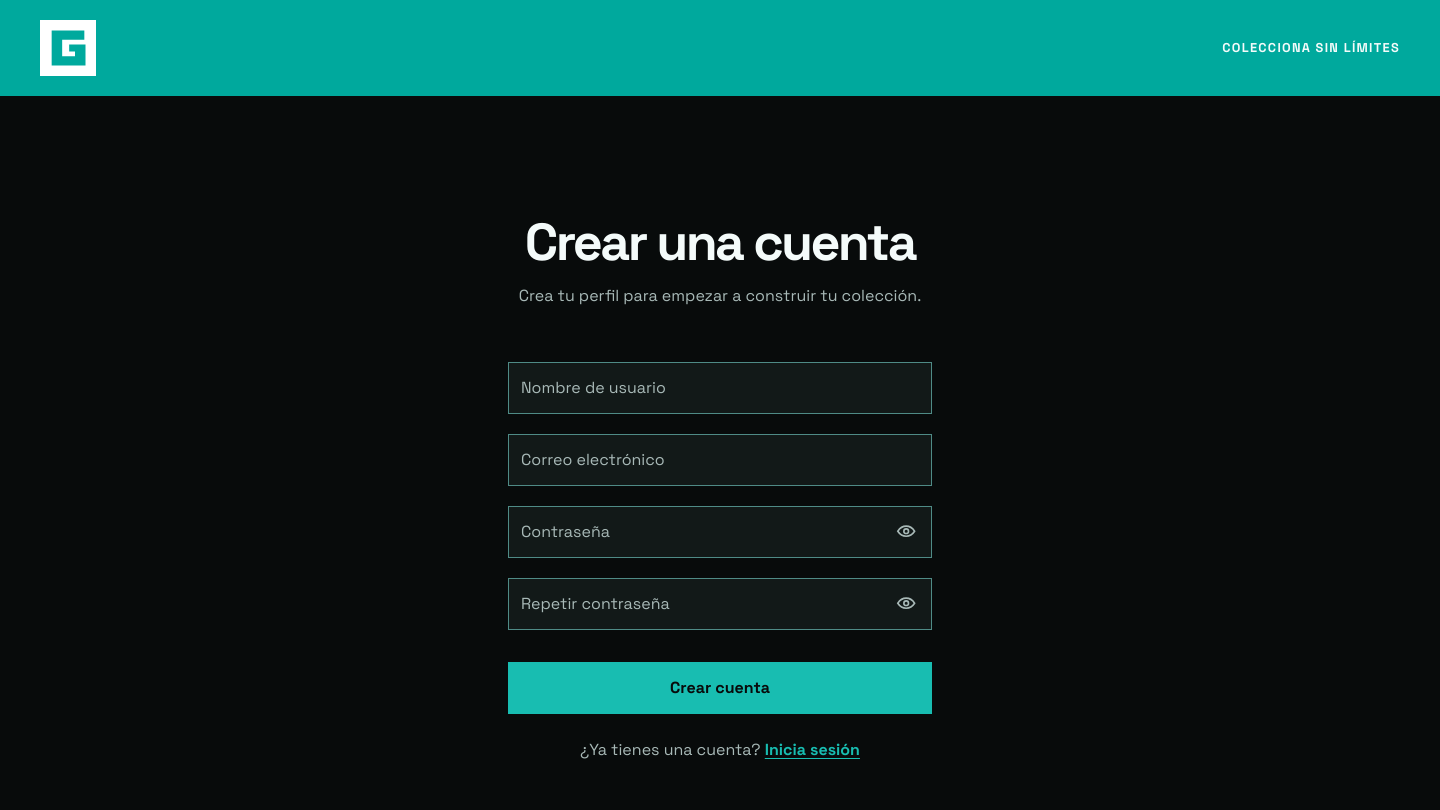
autenticación › crea una cuenta e inicia la sesión automáticamente
Expected: the heading "Crear una cuenta" is shown, [508,216,932,268]
Type "Ada" into the field labelled "Nombre de usuario" at (720, 388), box [508,362,932,414]
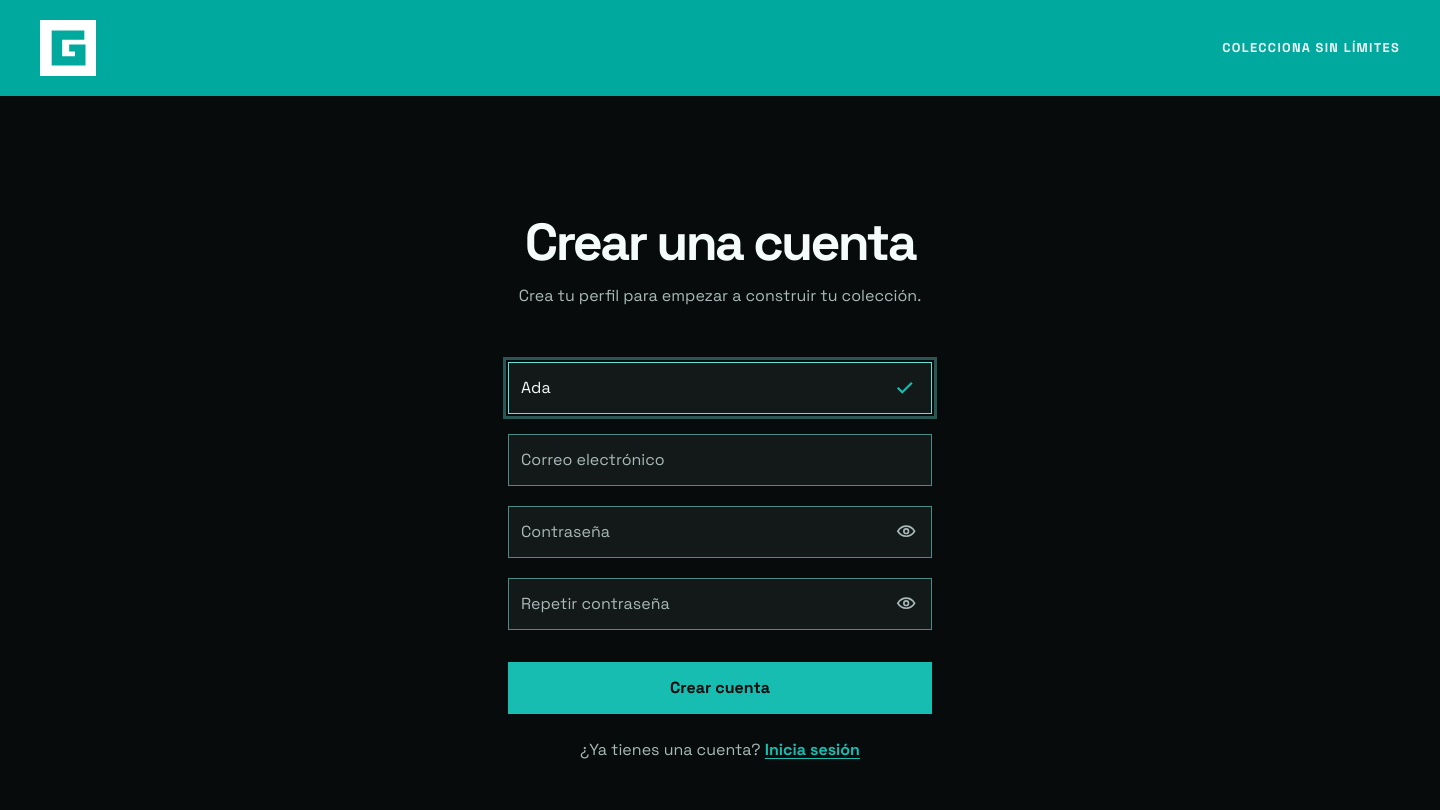
Type "ada@example.com" into the field labelled "Correo electrónico" at (720, 460), box [508,434,932,486]
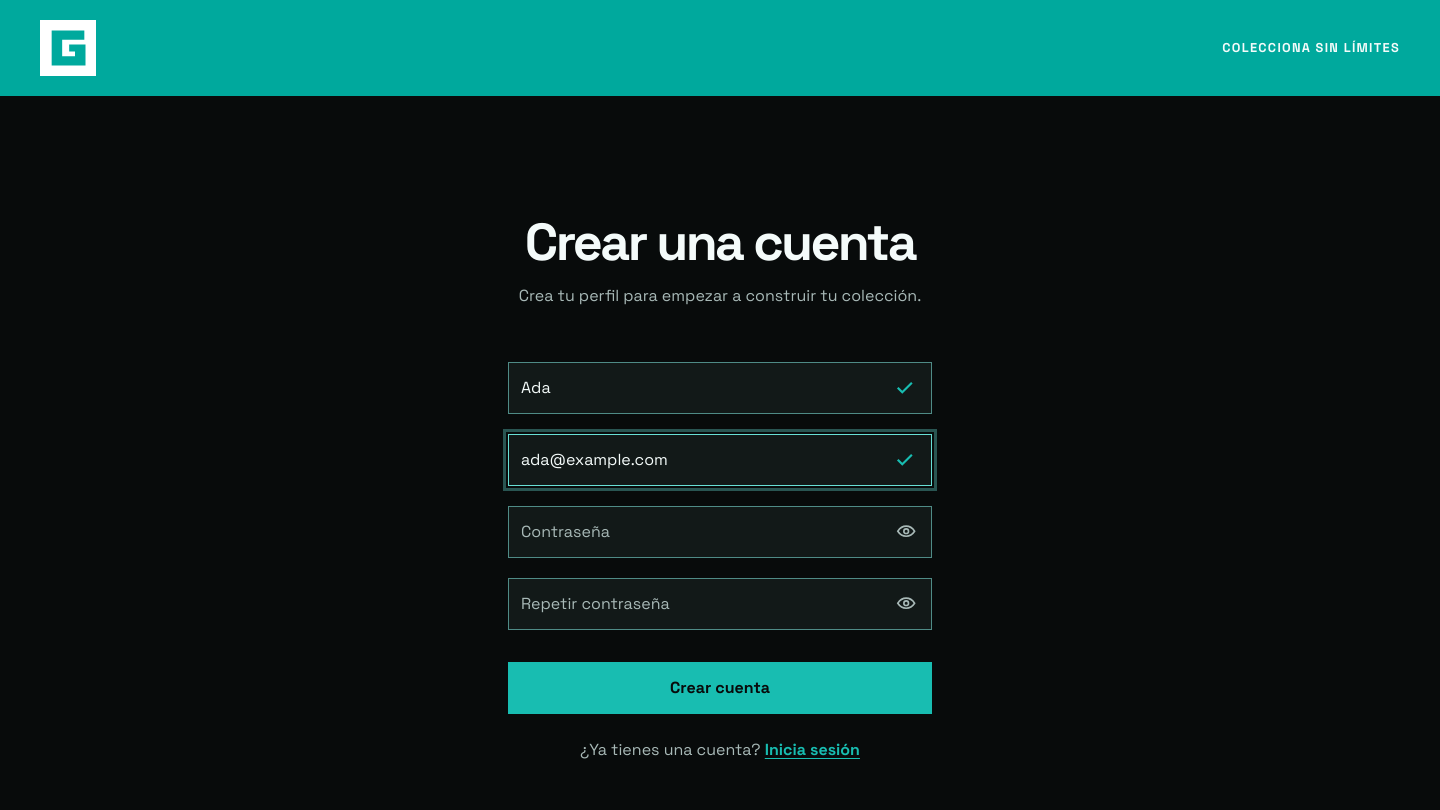
Type "una-clave-segura" into the password field labelled "Contraseña" at (720, 532), box [508,506,932,558]
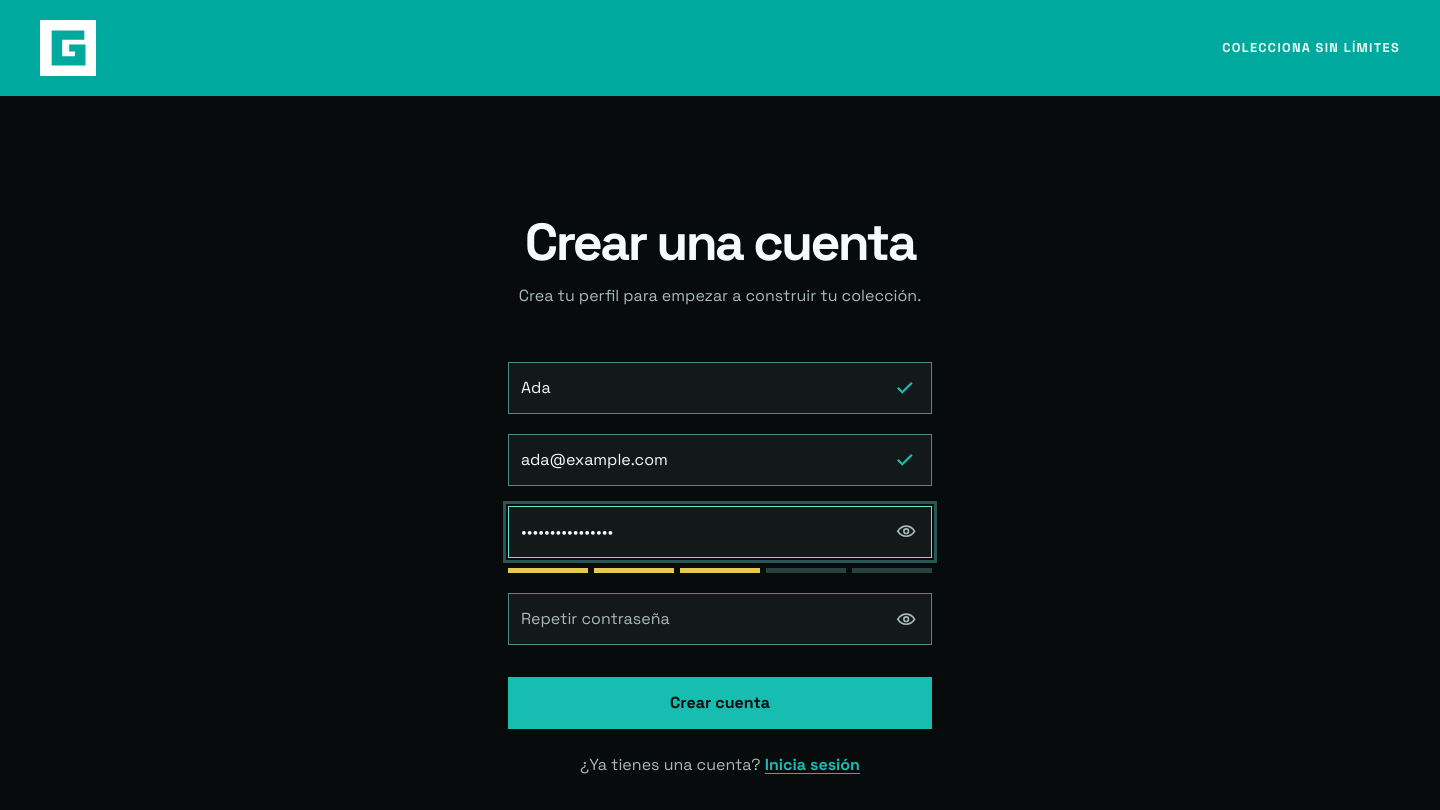
Type "una-clave-segura" into the password field labelled "Repetir contraseña" at (720, 619), box [508,593,932,645]
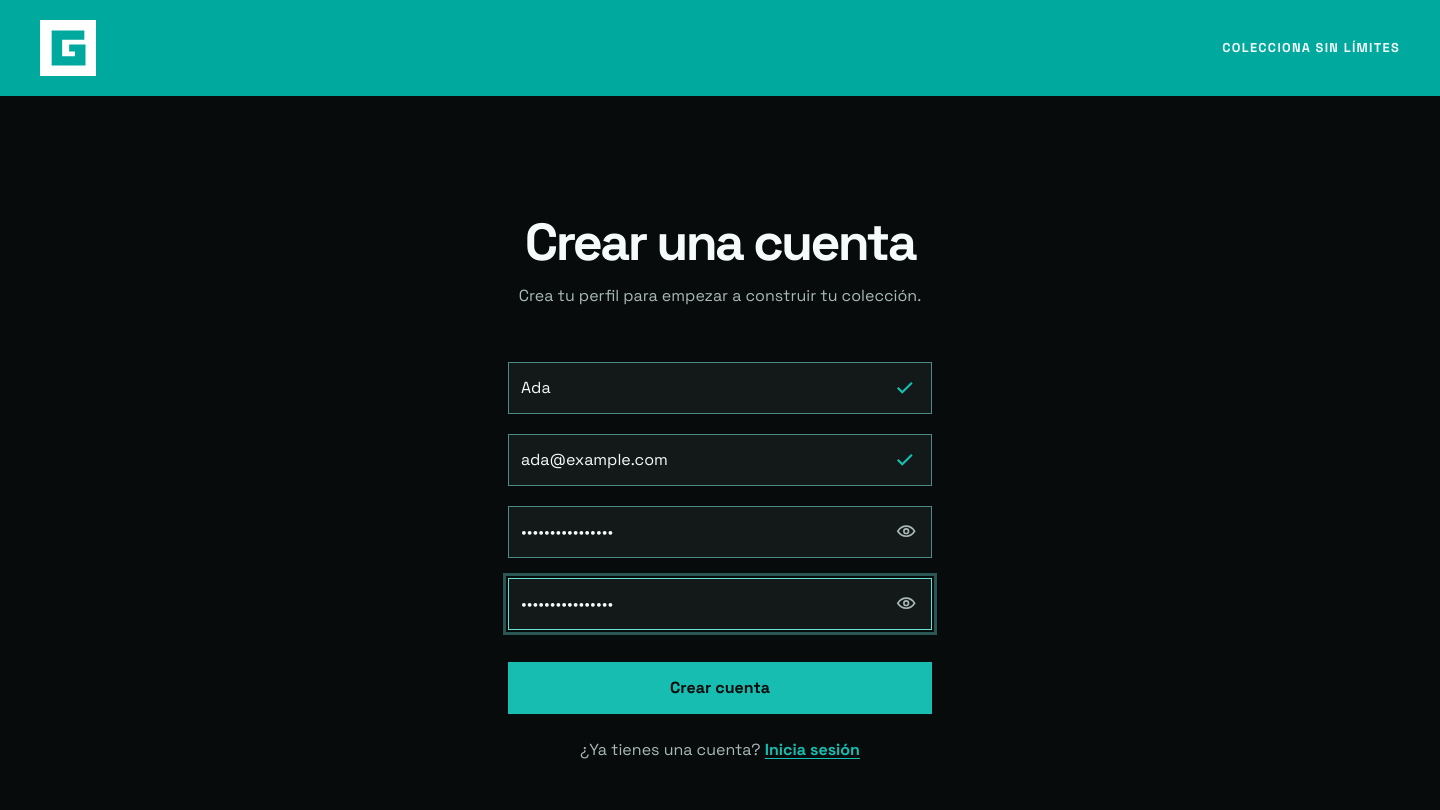
Click the button "Crear cuenta" at (720, 688), box [508,662,932,714]
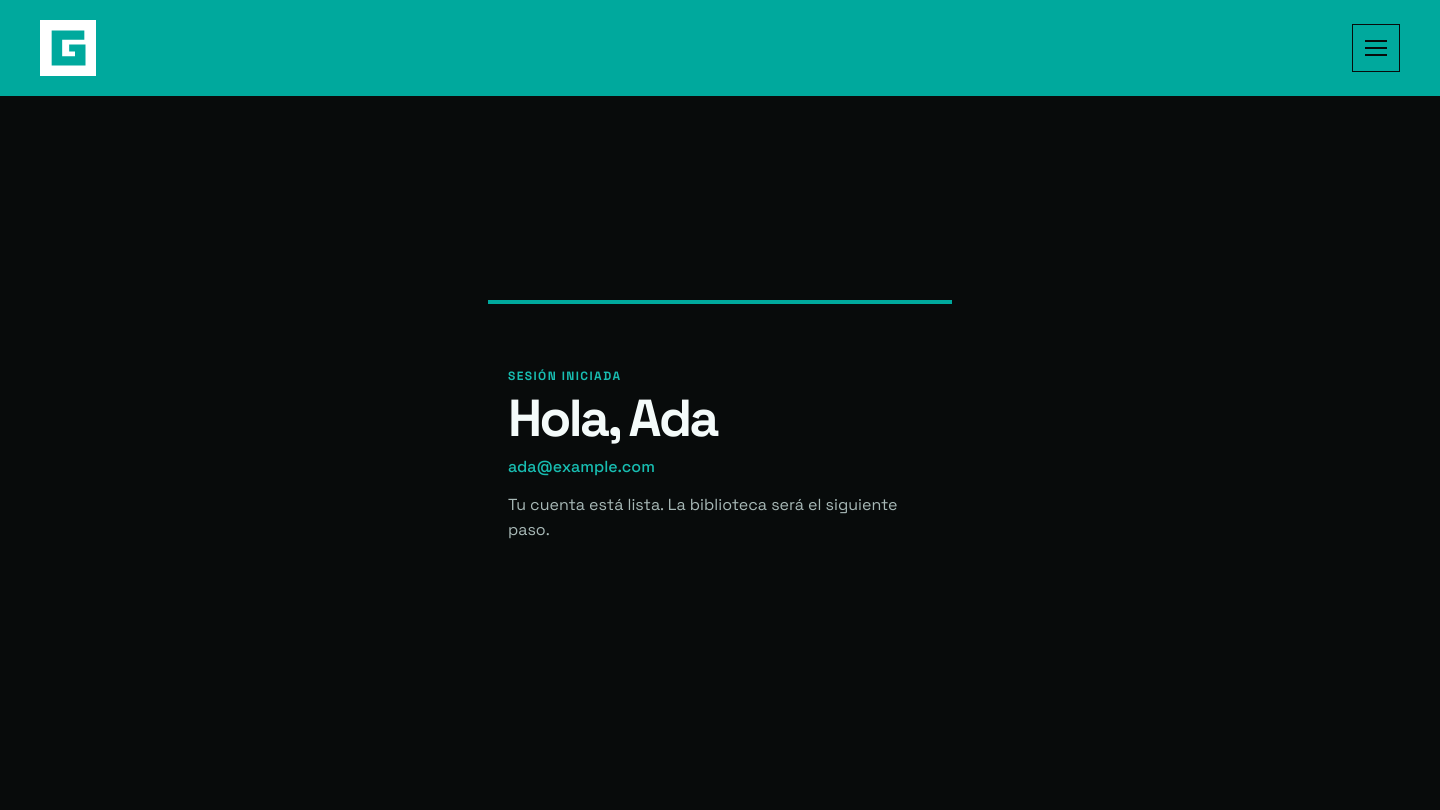
Expected: the heading "Hola, Ada" is shown, [508,385,717,451]
